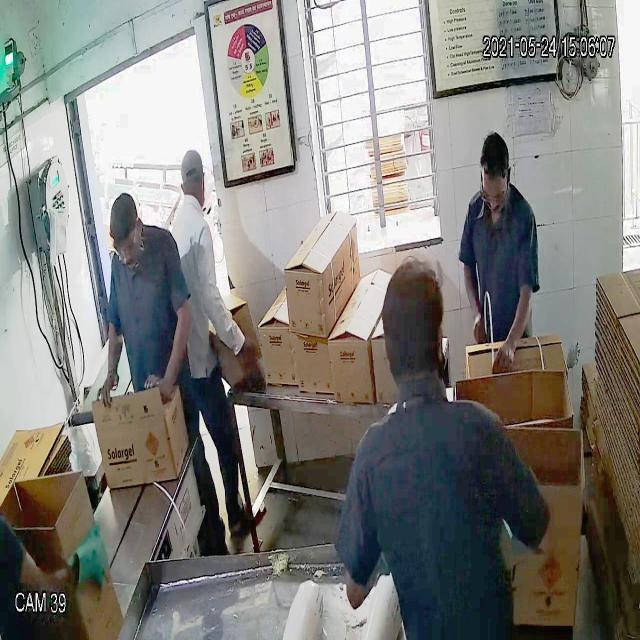glasses: (106, 233, 142, 260), (480, 181, 512, 209)
